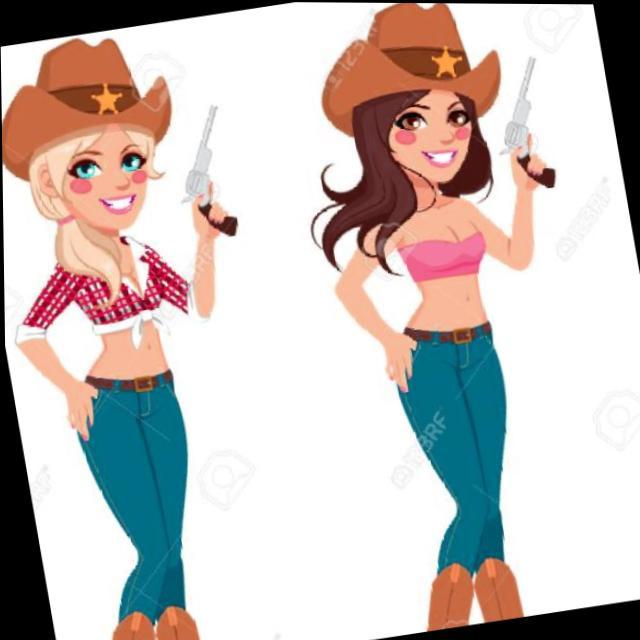weapon: (164, 102, 240, 242), (484, 54, 560, 194)
